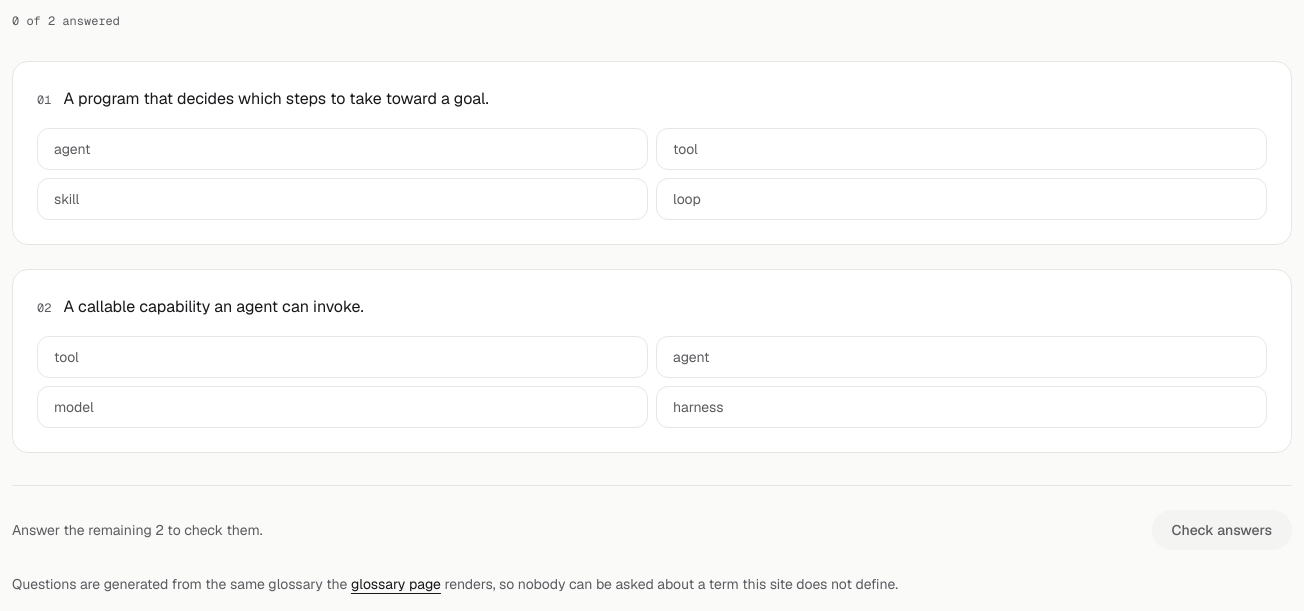
Test: GlossaryQuiz › keeps checking disabled until every question is answered
Expected: the button "Check answers" is disabled, x1=1152 y1=510 x2=1292 y2=550
Expected: the text "Answer the remaining 2 to check them." is shown, x1=12 y1=520 x2=263 y2=540
Click the button "agent" below "01" at point(72, 149), box x1=37 y1=128 x2=648 y2=170
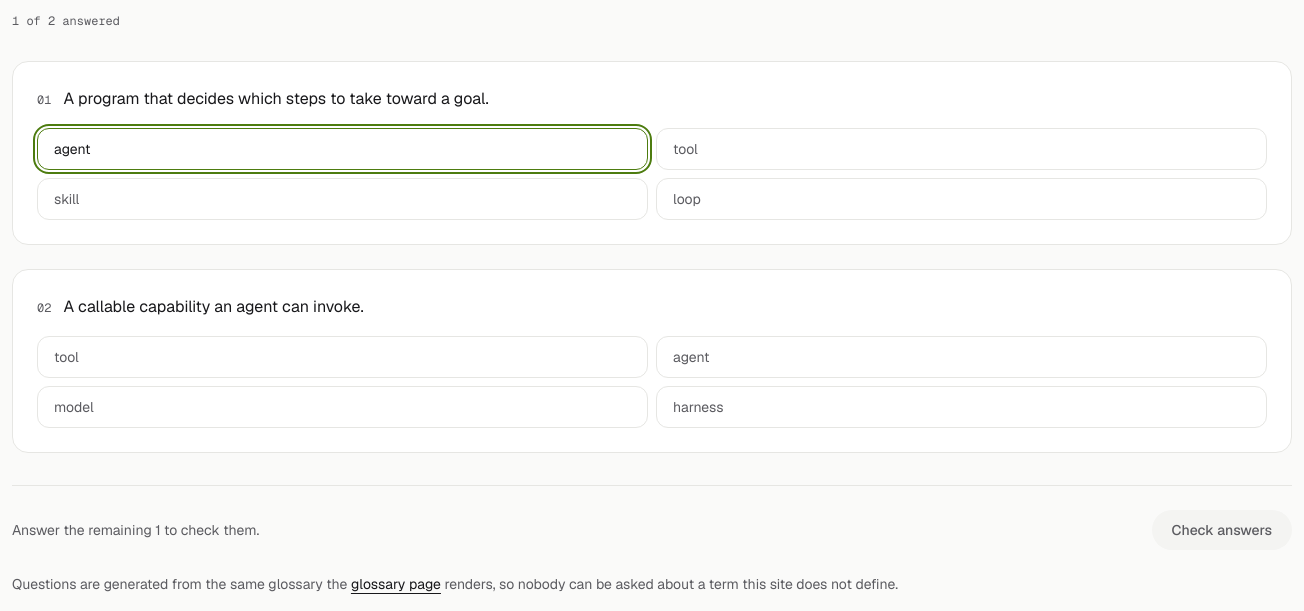
Expected: the button "Check answers" is disabled, x1=1152 y1=510 x2=1292 y2=550
Click the button "tool" below "02" at point(66, 357), box x1=37 y1=336 x2=648 y2=378
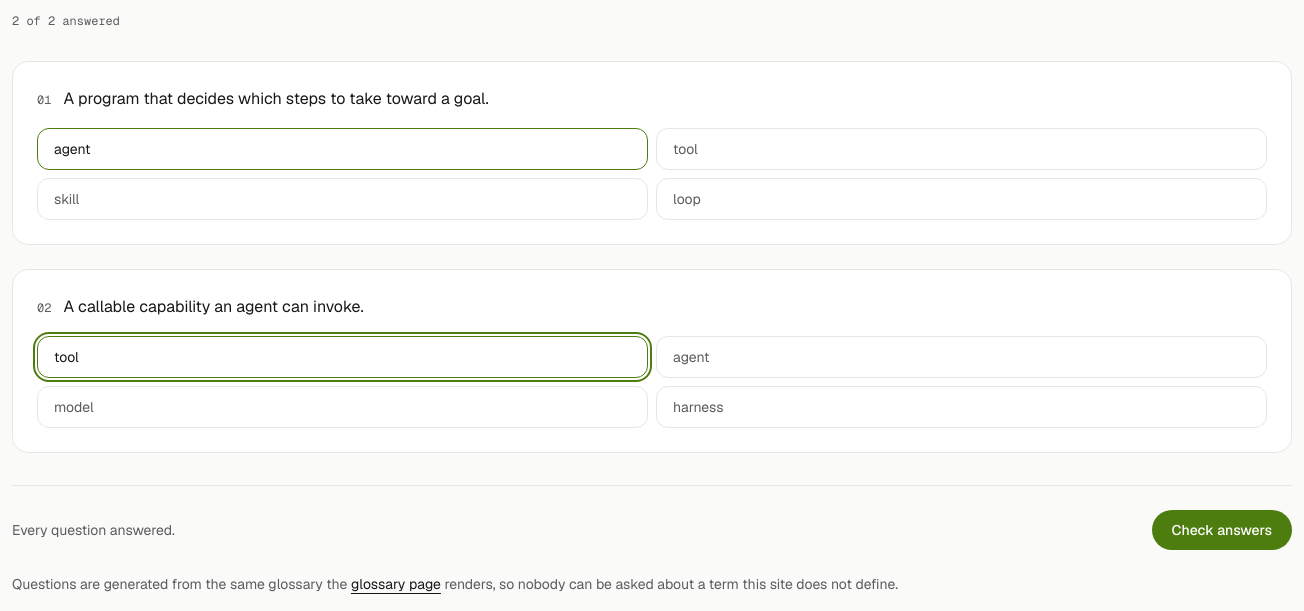
Expected: the button "Check answers" is enabled, x1=1152 y1=510 x2=1292 y2=550
Expected: the text "Every question answered." is shown, x1=12 y1=520 x2=175 y2=540
